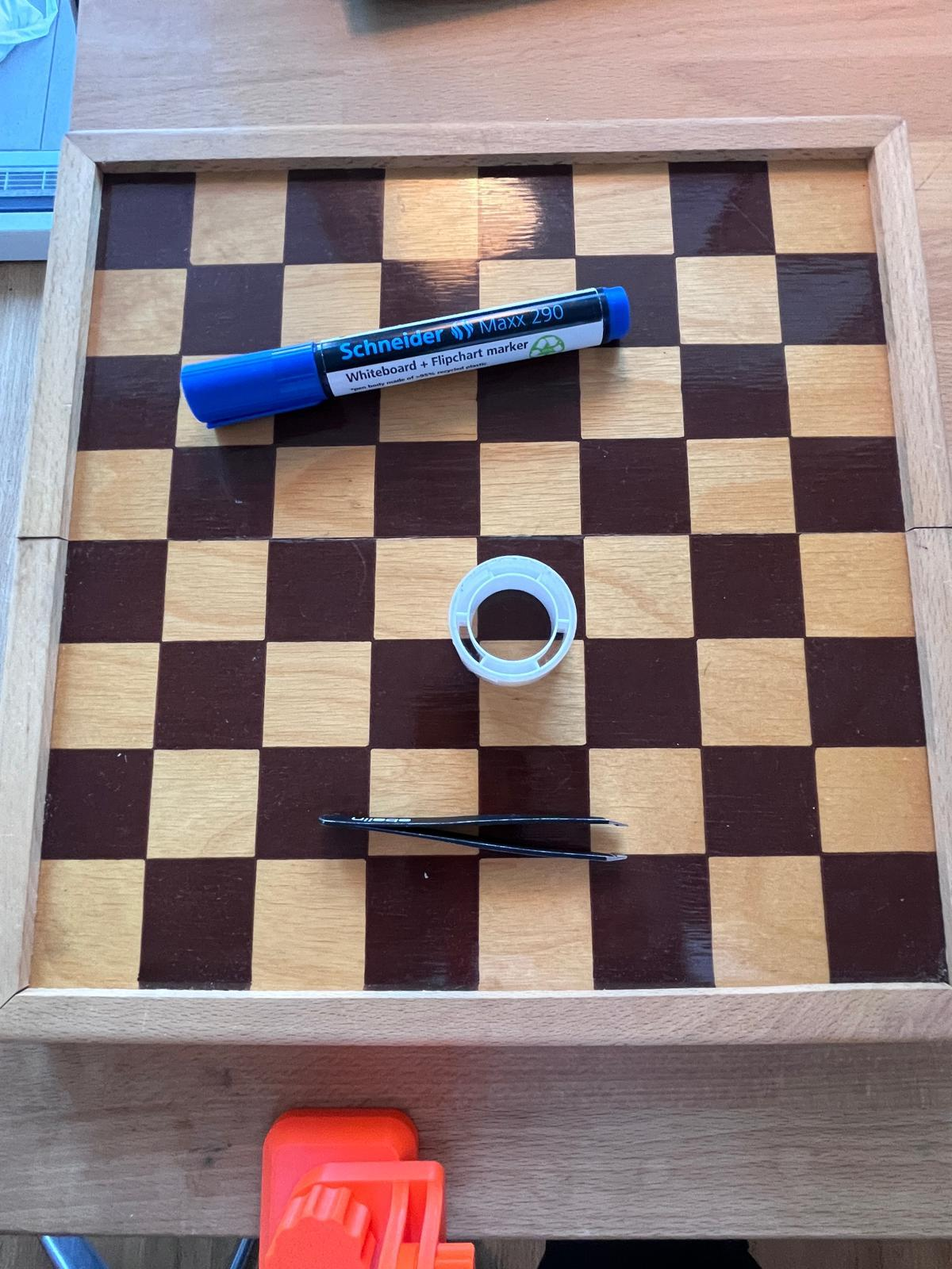marker: (175, 284, 633, 425)
tape: (438, 558, 576, 684)
tweezer: (319, 812, 625, 868)
